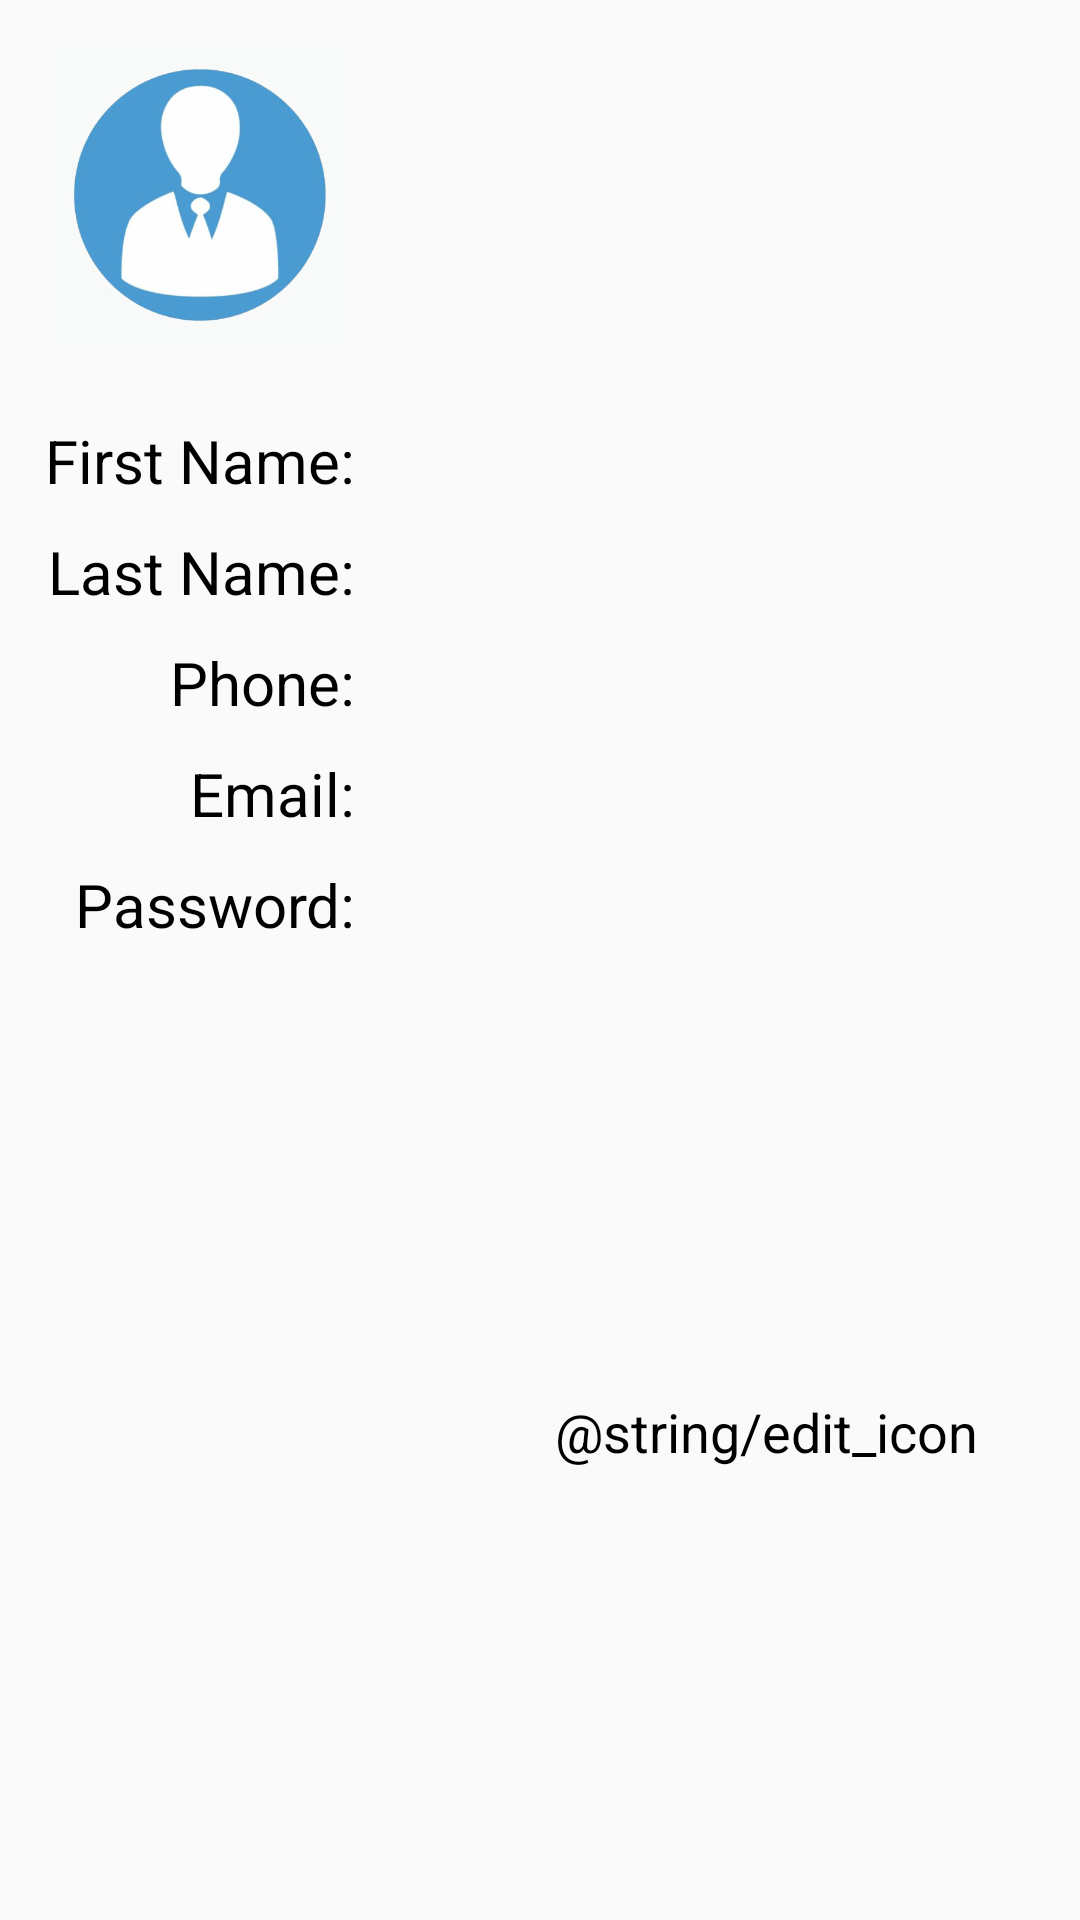

Point at icon controls on the screen. Image size 1080px x 1920px, points as point (x, y).
me profile: point (200, 195)
